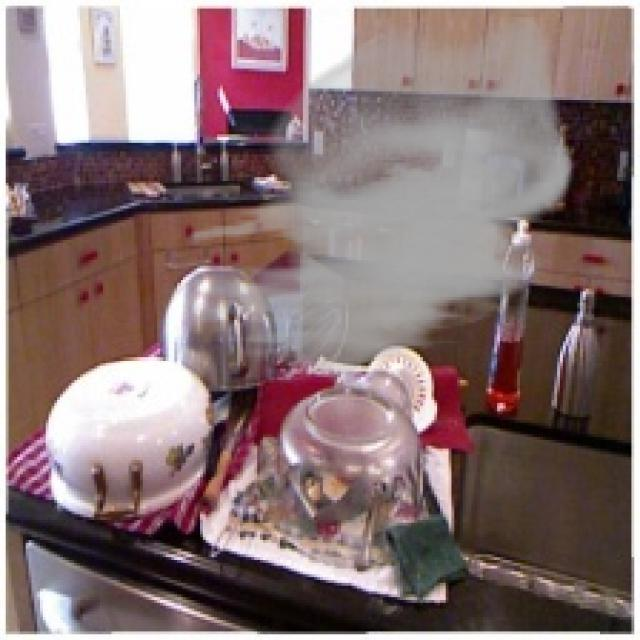Smoke: (188, 14, 574, 386)
